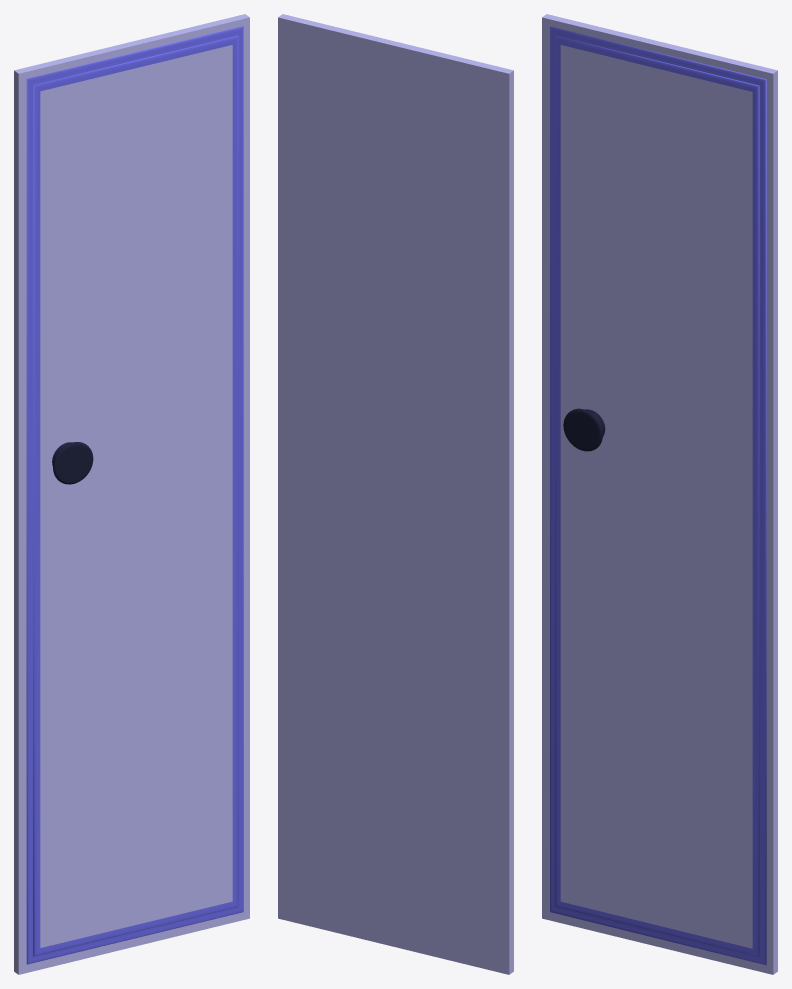
File: puerta 1 ropero.fbx
3 views of the same model, side by side, from view 1: azimuth 30°, elevation 25°; view 2: azimuth 150°, elevation 25°; view 3: azimuth 330°, elevation 25° (orthographic).
Parts seen in each view (by area): view 1: Box005, marco puerta, pomo ropero; view 2: Box005; view 3: Box005, marco puerta, pomo ropero.
Boxes of the visible parts, bbox=[...] form: Box005: bbox=[14, 14, 249, 974]; marco puerta: bbox=[26, 26, 243, 964]; pomo ropero: bbox=[52, 442, 93, 484]; Box005: bbox=[278, 14, 513, 974]; Box005: bbox=[542, 14, 777, 974]; marco puerta: bbox=[550, 26, 766, 965]; pomo ropero: bbox=[563, 408, 605, 451].
Size of the model in its own units: 161 by 598 by 15.05.
